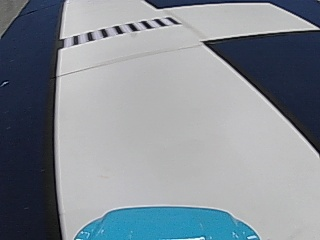CrossWalk: (67, 15, 175, 45)
